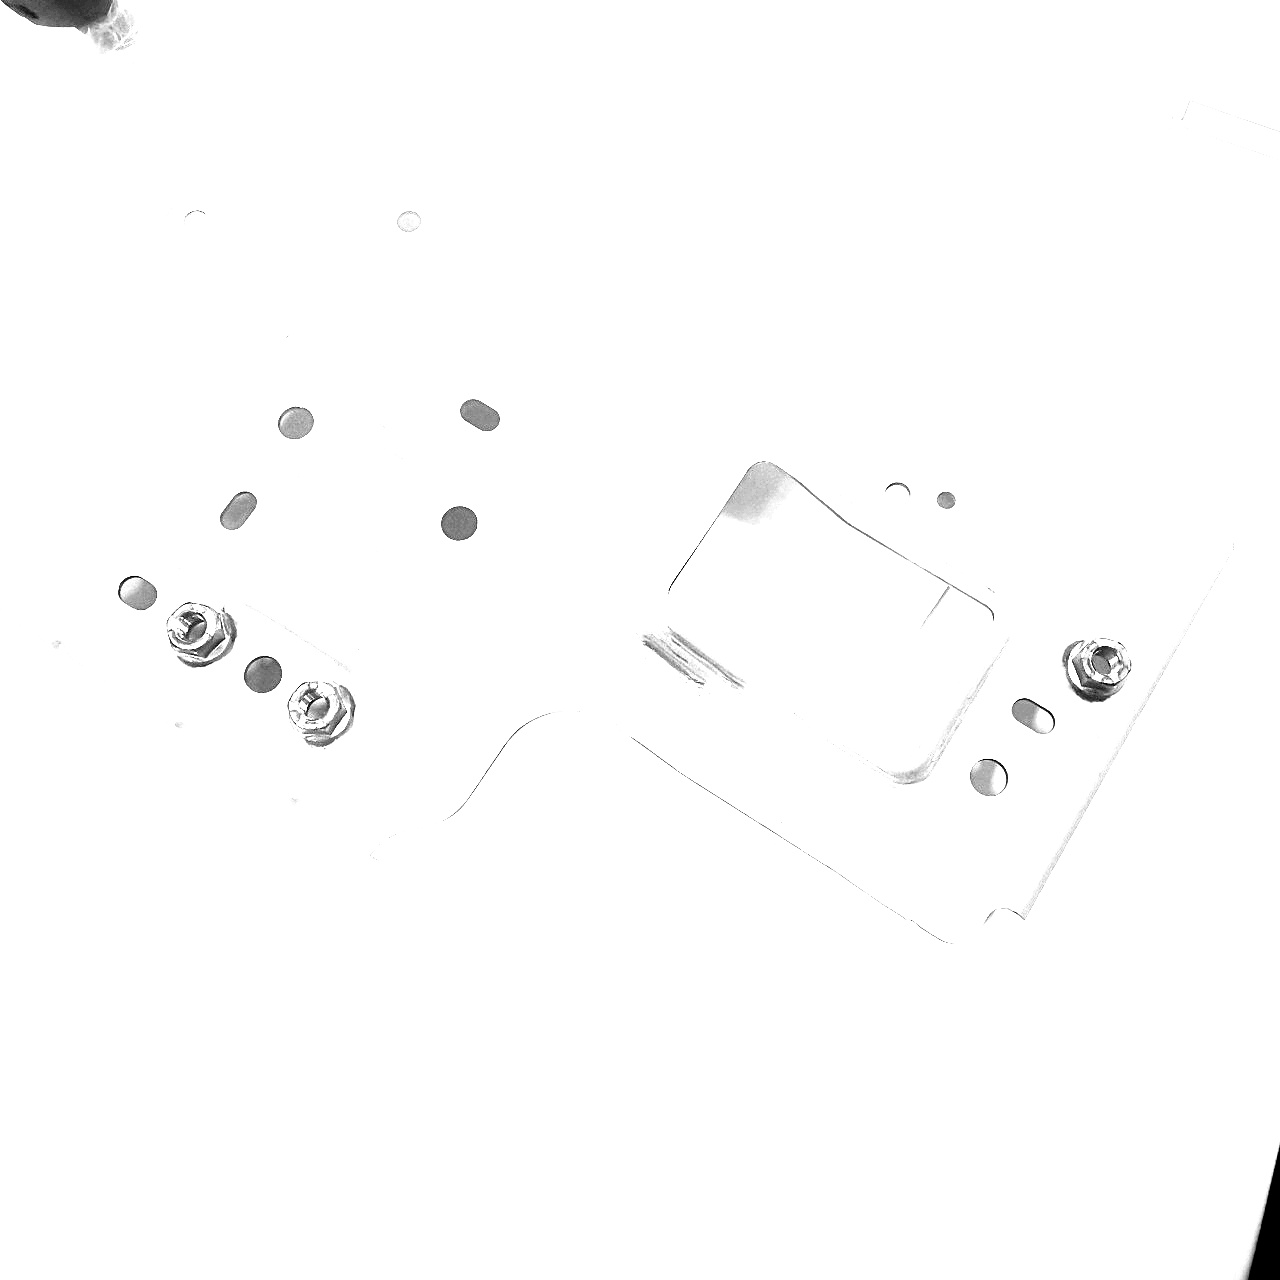dog: (280, 674, 362, 754), (1058, 632, 1136, 706), (162, 598, 236, 672)
